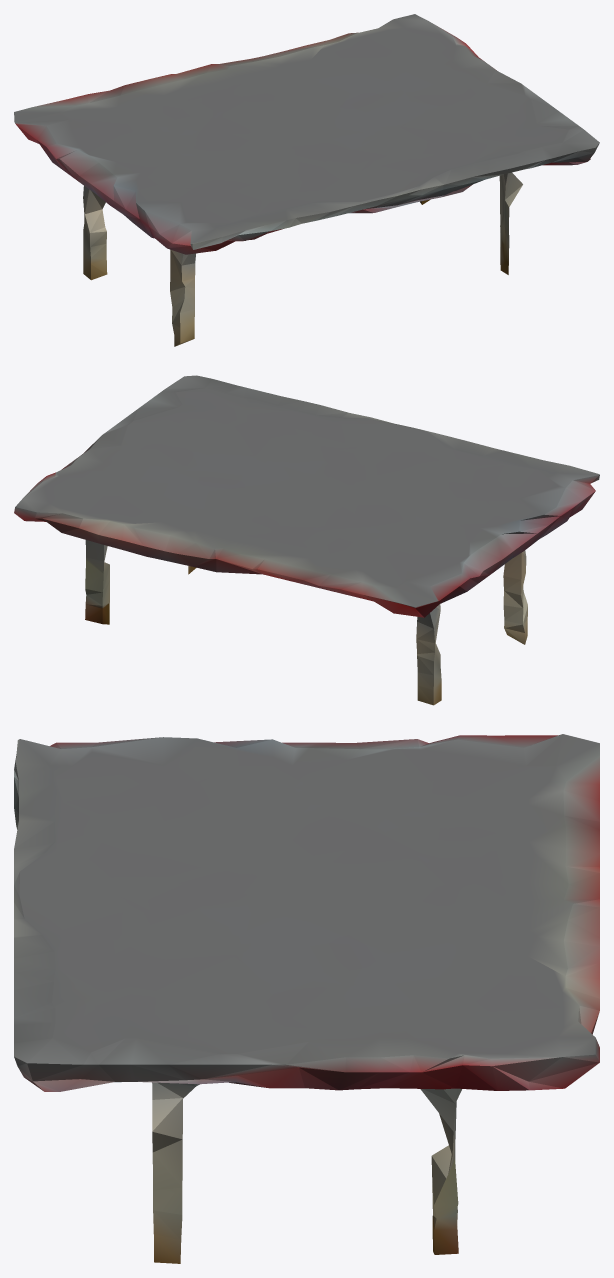
3 renders of one model, top to bottom at view 1: azimuth 30°, elevation 25°; view 2: azimuth 150°, elevation 25°; view 3: azimuth 270°, elevation 25°, orthographic. The views are drawn at different scales.
Bounding box in the file's own units: 16 × 5.5 × 12.
